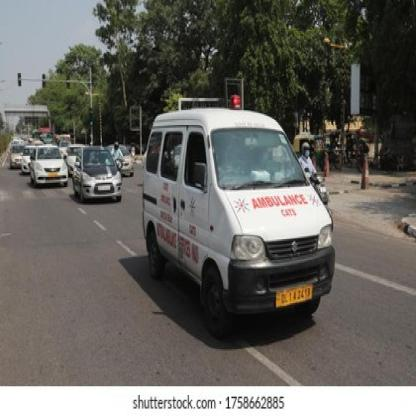priority: (144, 96, 336, 332)
